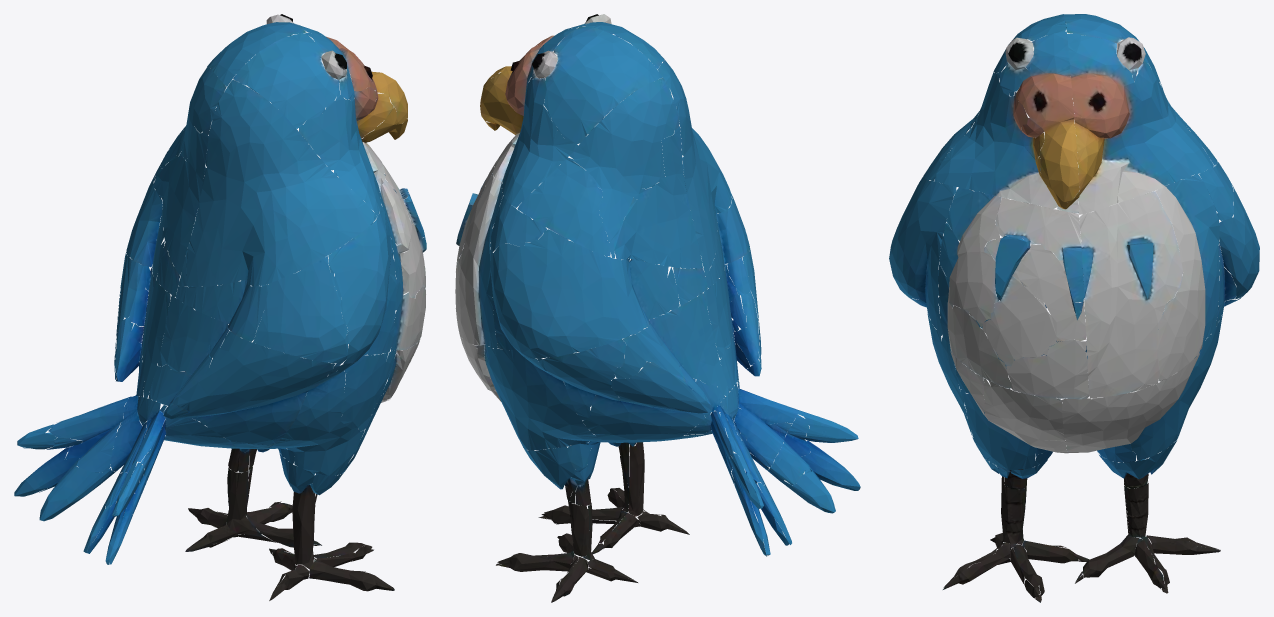
File: perruche-bleue.glb
3 renders of one model, left to right at view 1: azimuth 30°, elevation 25°; view 2: azimuth 150°, elevation 25°; view 3: azimuth 270°, elevation 25°, orthographic. The views are drawn at different scales.
Parts seen in each view (by area): view 1: tripo_node_619ad0aa-0ce7-4fa9-83a8-ac5346dcc7fe; view 2: tripo_node_619ad0aa-0ce7-4fa9-83a8-ac5346dcc7fe; view 3: tripo_node_619ad0aa-0ce7-4fa9-83a8-ac5346dcc7fe.
Boxes of the visible parts, box(x1,y1,x2,y2) form: tripo_node_619ad0aa-0ce7-4fa9-83a8-ac5346dcc7fe: box(14, 14, 426, 600); tripo_node_619ad0aa-0ce7-4fa9-83a8-ac5346dcc7fe: box(455, 14, 860, 602); tripo_node_619ad0aa-0ce7-4fa9-83a8-ac5346dcc7fe: box(889, 14, 1259, 602).
Bounding box in the file's own units: 0.6725 × 0.981 × 0.6011.
Materials: 1 (1 with a texture image).
